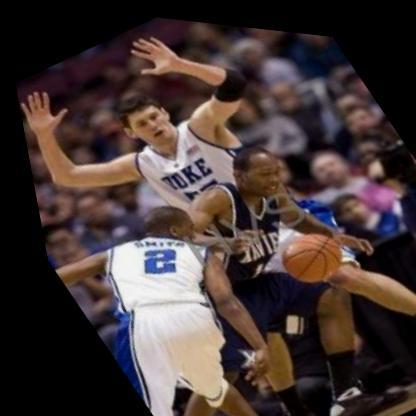basketball: (252, 202, 355, 296)
